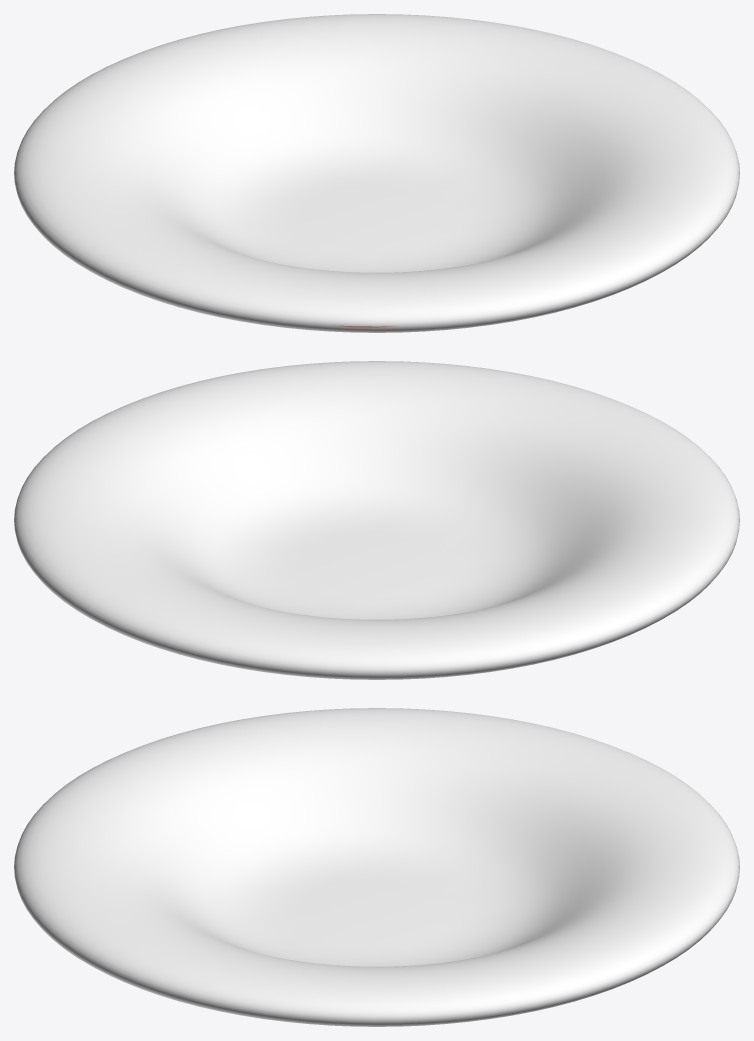
Rendered from SM_Dish01.fbx.
3 views of the same model, one above another, from view 1: azimuth 30°, elevation 25°; view 2: azimuth 150°, elevation 25°; view 3: azimuth 270°, elevation 25° (orthographic).
Visible parts, largest first — view 1: SM_Dish01; view 2: SM_Dish01; view 3: SM_Dish01.
Part boxes in pixels (x1=…): SM_Dish01: x1=14, y1=14, x2=739, y2=332; SM_Dish01: x1=14, y1=361, x2=739, y2=679; SM_Dish01: x1=14, y1=708, x2=739, y2=1026.
Size of the model in its own units: 86.05 by 12.75 by 86.05.
